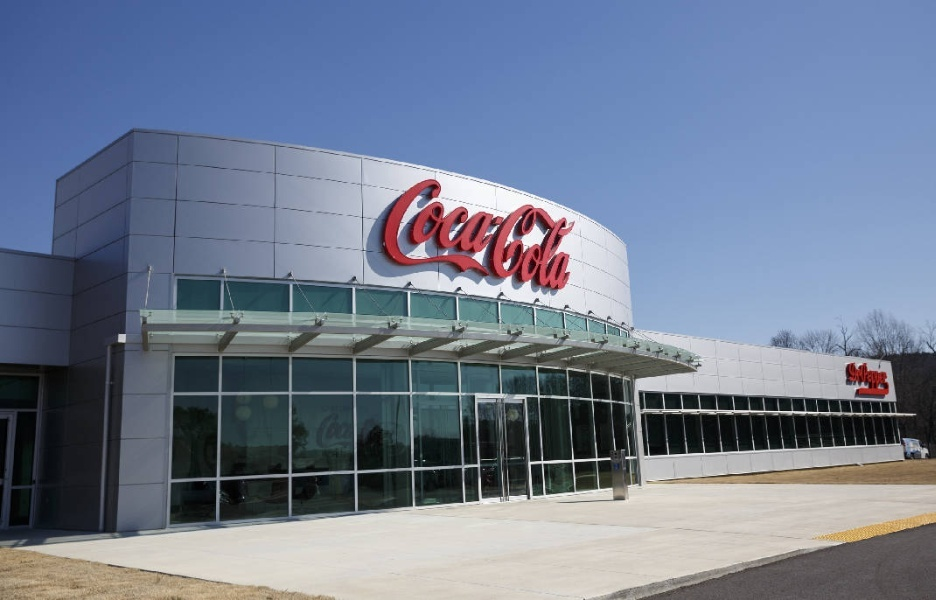text: (561, 170, 577, 295), (401, 170, 416, 295), (417, 170, 432, 295), (433, 170, 448, 295), (449, 170, 464, 295), (465, 170, 480, 295), (481, 170, 496, 295), (497, 170, 512, 295), (513, 170, 528, 295), (529, 170, 544, 295), (545, 170, 560, 295), (394, 170, 400, 295), (321, 413, 336, 457), (337, 413, 352, 457), (353, 413, 368, 457), (369, 413, 384, 457), (849, 361, 864, 396), (865, 361, 880, 396), (881, 361, 893, 396), (315, 413, 320, 457), (845, 361, 848, 396), (385, 413, 386, 457)
